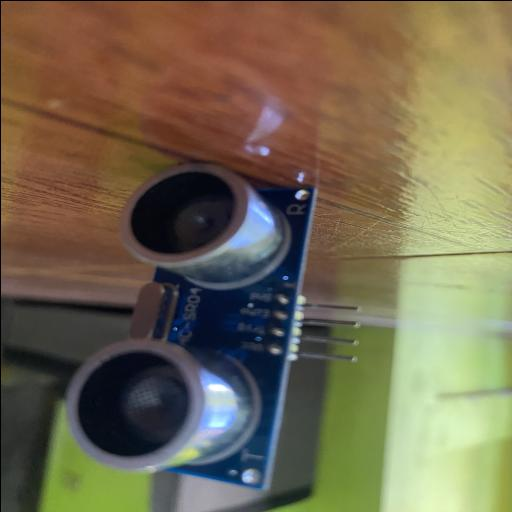Ultrasonic Sensor: (64, 160, 360, 492)
